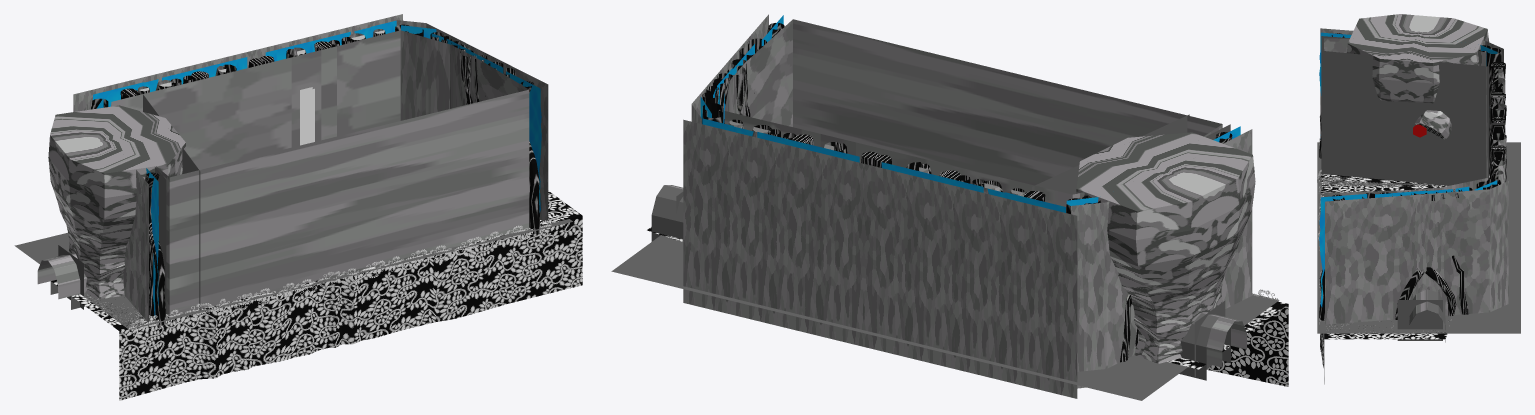
File: mri_11_bake.dae
3 renders of one model, left to right at view 1: azimuth 30°, elevation 25°; view 2: azimuth 150°, elevation 25°; view 3: azimuth 270°, elevation 25°, orthographic. The views are drawn at different scales.
Visible parts, largest first — view 1: polySurface131, polySurface132_q00007_part1, polySurface110_q005, polySurface119_q007, polySurface118_q006, A_yuka_01, polySurface120_q008, A_ueki05, S_l_okuA_part1, S_oku_A, A_ueki03, A_ueki04 (+15 smaller); view 2: S_oku_A, polySurface131, polySurface132_q00007_part1, S_l_okuA_part1, A_yuka_01, polySurface110_q005, S_r_okuC, S_oku_C_part0, S_r_okuA_part0, S_l_okuA_part0, S_oku_D, A_gra_l (+6 smaller); view 3: S_r_okuA_part1, A_sunomae, polySurface132_q00007_part1, A_yuka_01, S_r_okuC, polySurface131, S_yukaA02, S_oku_D, pPlane28, S_yukaA03, S_r_okuB_part0, pCylinder29_q00005_part1 (+7 smaller).
Boxes of the visible parts, x1=… form: polySurface131: x1=111, y1=30, x2=529, y2=316; polySurface132_q00007_part1: x1=48, y1=105, x2=185, y2=299; polySurface110_q005: x1=119, y1=282, x2=328, y2=400; polySurface119_q007: x1=429, y1=215, x2=582, y2=323; polySurface118_q006: x1=328, y1=257, x2=429, y2=347; A_yuka_01: x1=14, y1=219, x2=572, y2=329; polySurface120_q008: x1=128, y1=220, x2=551, y2=336; A_ueki05: x1=337, y1=39, x2=366, y2=136; S_l_okuA_part1: x1=84, y1=97, x2=148, y2=337; S_oku_A: x1=73, y1=14, x2=402, y2=111; A_ueki03: x1=221, y1=69, x2=243, y2=164; A_ueki04: x1=291, y1=50, x2=321, y2=147; S_oku_A: x1=683, y1=119, x2=1077, y2=398; polySurface131: x1=664, y1=19, x2=1222, y2=212; polySurface132_q00007_part1: x1=1076, y1=132, x2=1255, y2=363; S_l_okuA_part1: x1=1071, y1=129, x2=1252, y2=388; A_yuka_01: x1=611, y1=235, x2=1279, y2=400; polySurface110_q005: x1=1206, y1=304, x2=1288, y2=386; S_r_okuC: x1=702, y1=23, x2=784, y2=123; S_oku_C_part0: x1=733, y1=126, x2=1065, y2=212; S_r_okuA_part0: x1=651, y1=185, x2=683, y2=241; S_l_okuA_part0: x1=1179, y1=313, x2=1230, y2=380; S_oku_D: x1=768, y1=129, x2=1045, y2=201; A_gra_l: x1=1202, y1=313, x2=1246, y2=367; S_r_okuA_part1: x1=1325, y1=181, x2=1508, y2=324; A_sunomae: x1=1321, y1=50, x2=1489, y2=185; polySurface132_q00007_part1: x1=1346, y1=14, x2=1489, y2=103; A_yuka_01: x1=1317, y1=142, x2=1520, y2=333; S_r_okuC: x1=1319, y1=178, x2=1501, y2=320; polySurface131: x1=1324, y1=38, x2=1487, y2=324; S_yukaA02: x1=1319, y1=139, x2=1489, y2=196; S_oku_D: x1=1490, y1=61, x2=1506, y2=182; pPlane28: x1=1397, y1=300, x2=1442, y2=340; S_yukaA03: x1=1324, y1=319, x2=1451, y2=339; S_r_okuB_part0: x1=1319, y1=186, x2=1469, y2=307; pCylinder29_q00005_part1: x1=1415, y1=110, x2=1451, y2=139.
Bounding box in the file's own units: 108 × 45 × 45.03.
